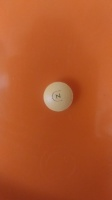Nurofen: (41, 81, 75, 113)
